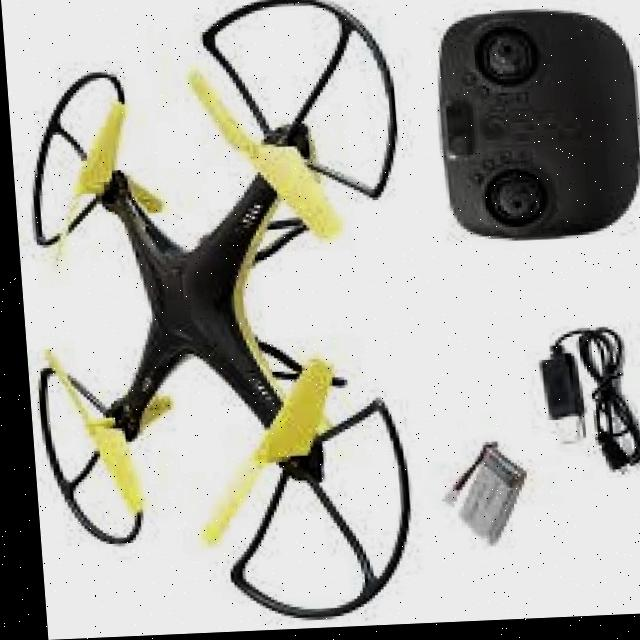drone: (7, 0, 443, 640)
